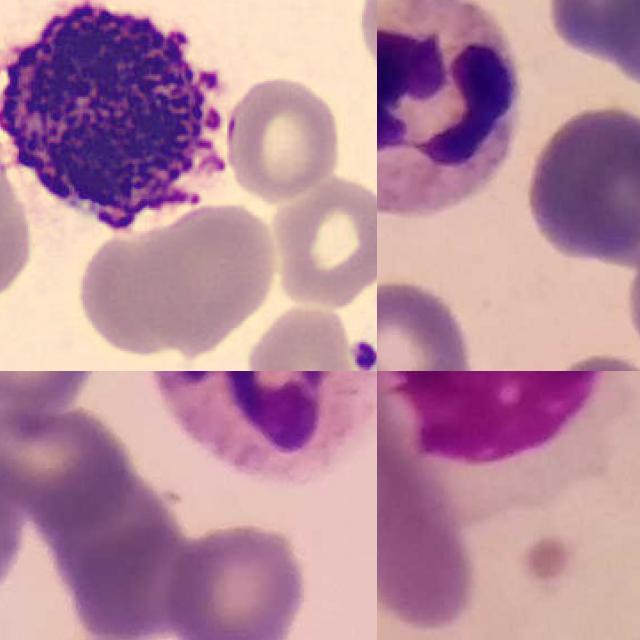Basophil: (0, 0, 243, 246)
Lymphocyte: (382, 371, 640, 528)
Neutrophil: (377, 0, 522, 217), (144, 371, 377, 488)
Platelets: (347, 336, 377, 371)
RBC: (131, 196, 280, 354), (224, 73, 345, 205), (266, 172, 377, 312)
